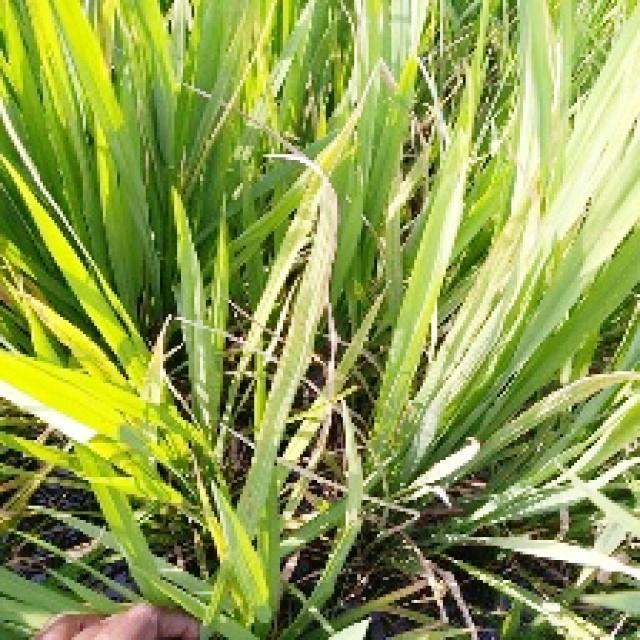unhealth: (238, 154, 339, 545)
